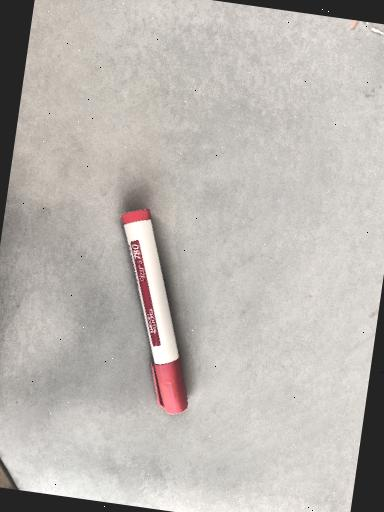marcador rojo: (121, 210, 187, 414)
